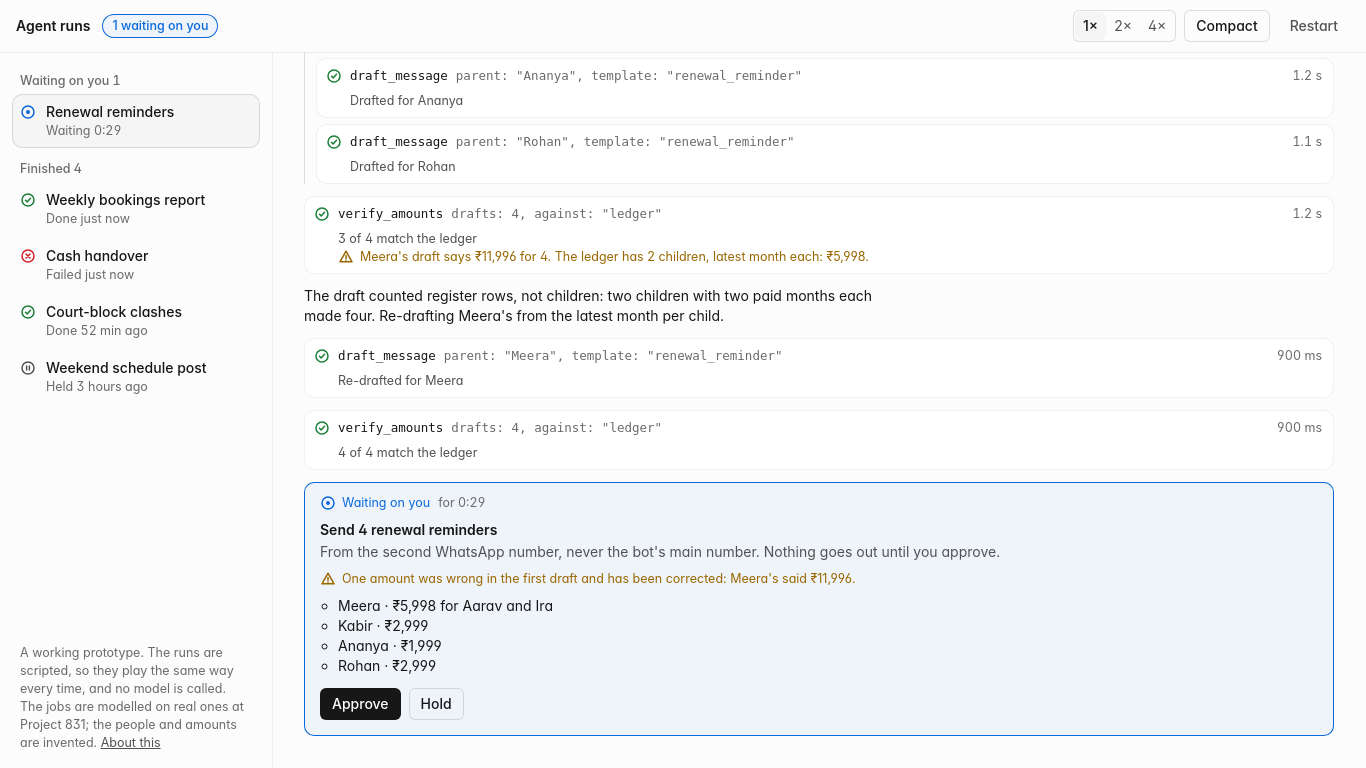
Test: the live view › ends a held run with nothing sent
(page scrolled)
Click the button "Hold".
click(436, 704)  # box [409,688,464,720]
Wait 10000 ms
(page scrolled)
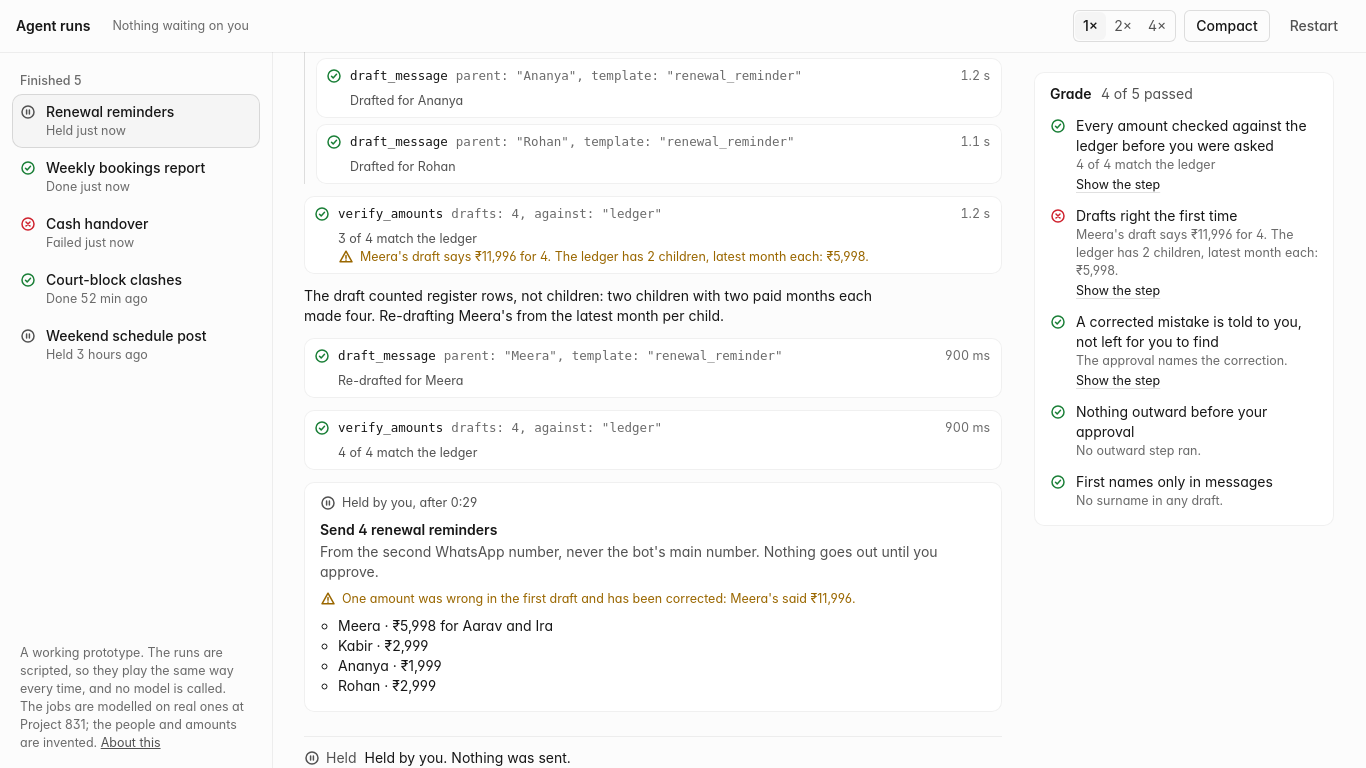
Now the text "Held by you. Nothing was sent." is shown, box [364,748,571,767]
